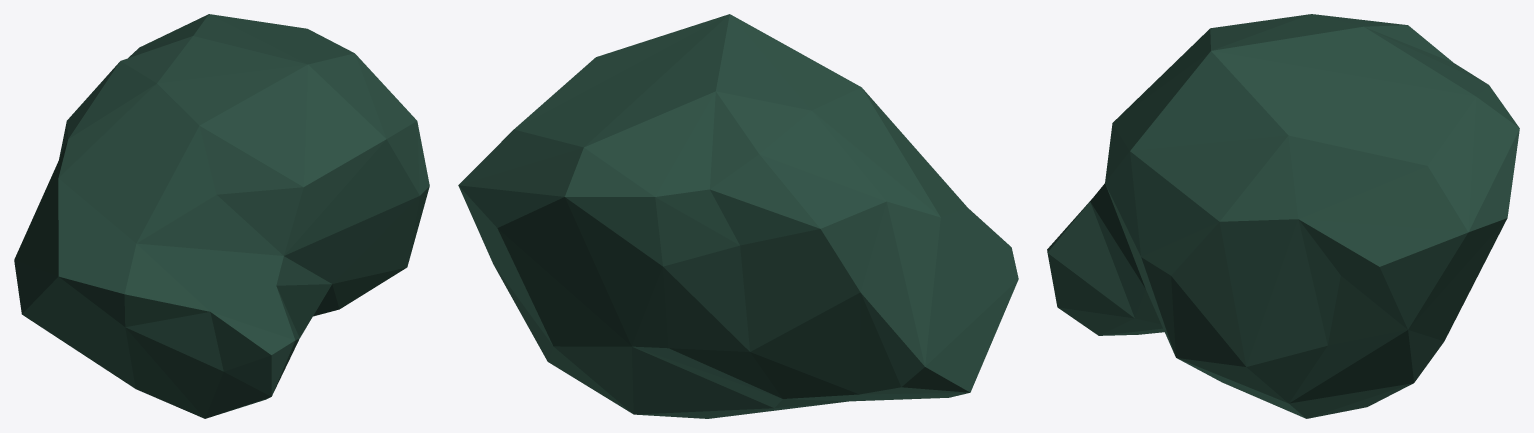
The model's file is SM_large_rock_24.fbx.
3 renders of one model, left to right at view 1: azimuth 30°, elevation 25°; view 2: azimuth 150°, elevation 25°; view 3: azimuth 270°, elevation 25°, orthographic. The views are drawn at different scales.
Parts seen in each view (by area): view 1: large_rock_24; view 2: large_rock_24; view 3: large_rock_24.
Part boxes in pixels (x1=…): large_rock_24: x1=14, y1=14, x2=429, y2=418; large_rock_24: x1=458, y1=14, x2=1018, y2=418; large_rock_24: x1=1047, y1=14, x2=1519, y2=418.
Size of the model in its own units: 80.75 by 60.87 by 72.01.
